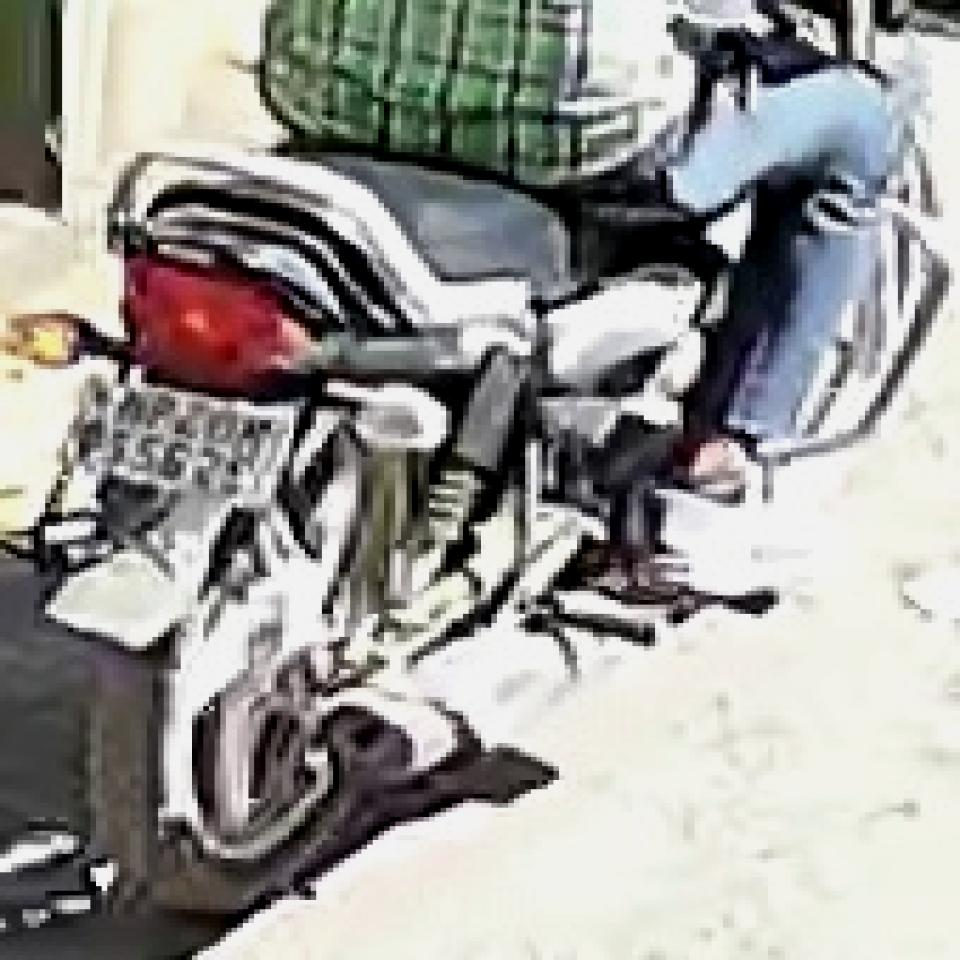tail_light: (123, 248, 320, 378)
